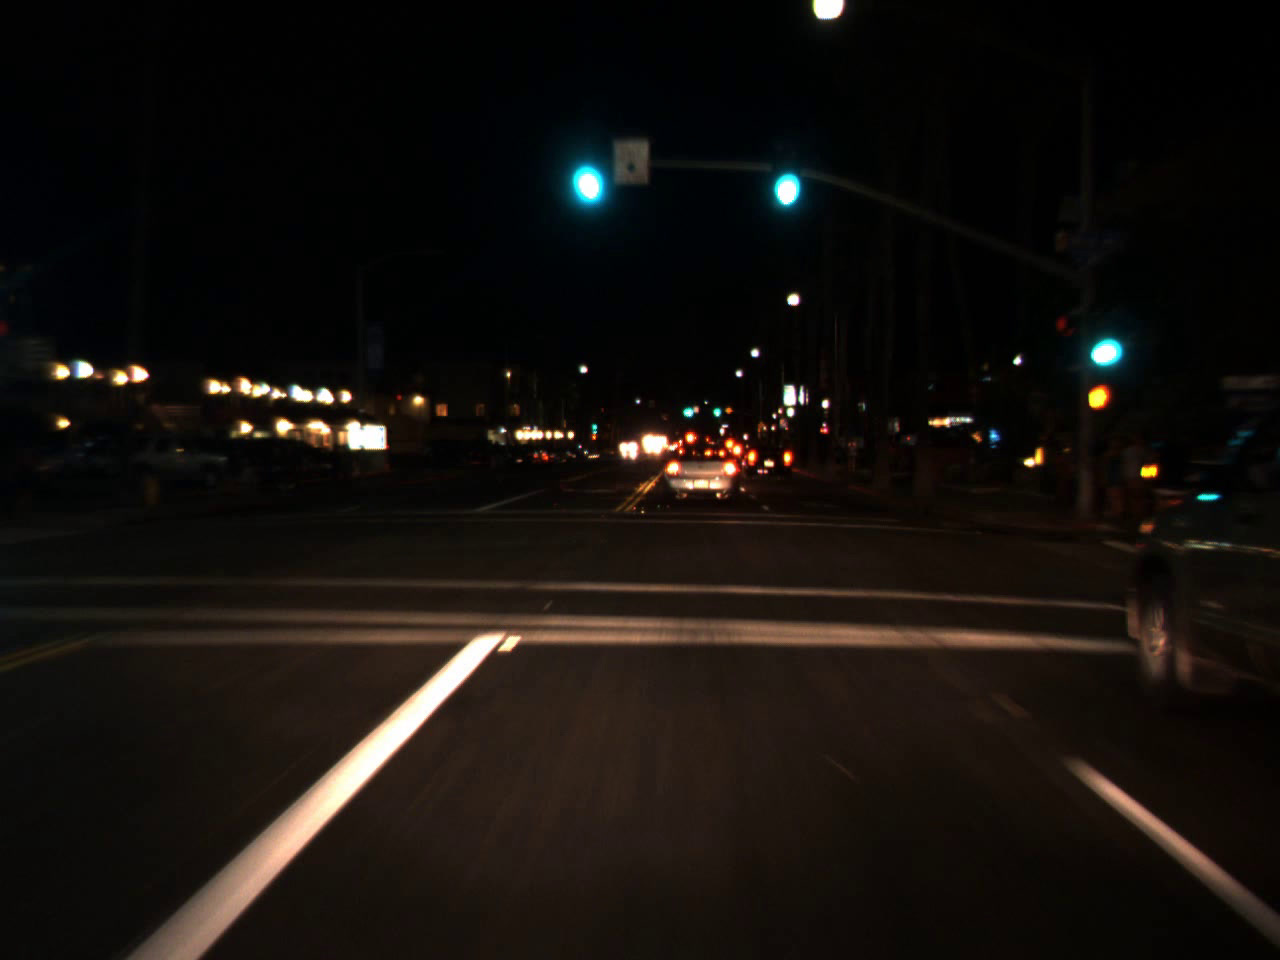go: (1075, 301, 1127, 379), (566, 125, 609, 212), (762, 134, 805, 218), (679, 394, 695, 421), (711, 400, 721, 418), (591, 417, 598, 432)
